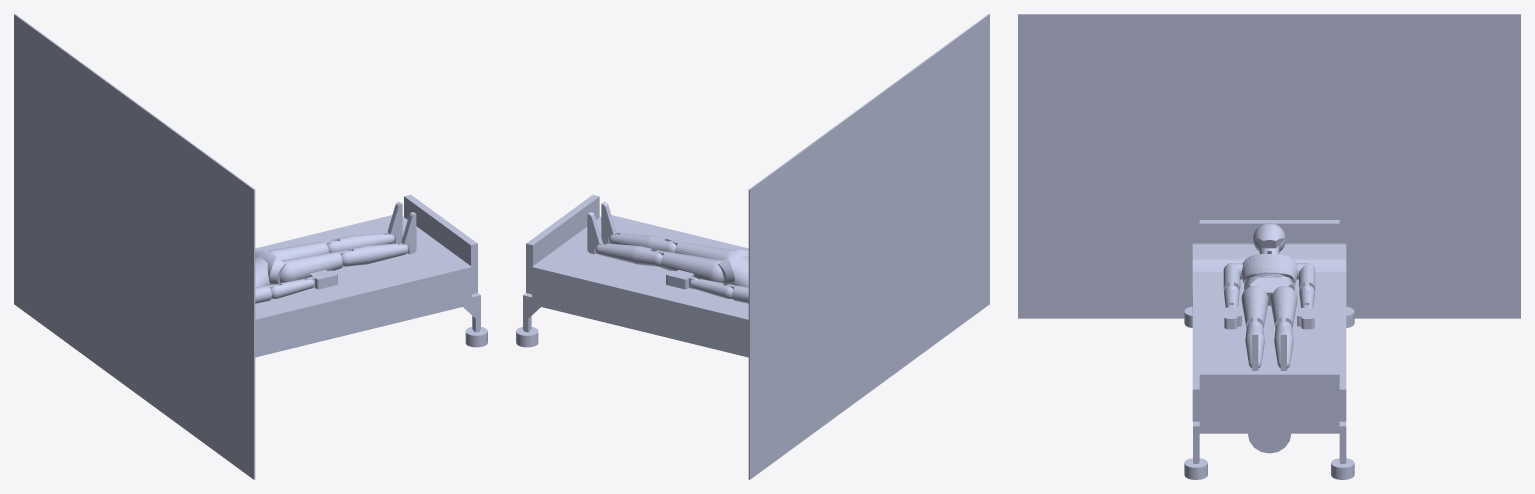
File: bed_and_body_v3_rounded.dae
3 views of the same model, side by side, from view 1: azimuth 30°, elevation 25°; view 2: azimuth 150°, elevation 25°; view 3: azimuth 270°, elevation 25° (orthographic). The views are drawn at different scales.
Parts seen in each view (by area): view 1: wall_link, leg_rest_lower_link, bed_frame_link, leg_rest_upper_link, head_rest_link, quad_right_link, calf_right_link, calf_left_link, quad_left_link, forearm_right_link, lower_body_link; view 2: wall_link, leg_rest_lower_link, bed_frame_link, leg_rest_upper_link, head_rest_link, quad_left_link, calf_left_link, calf_right_link, quad_right_link, forearm_left_link, lower_body_link; view 3: wall_link, bed_frame_link, leg_rest_lower_link, head_rest_link, leg_rest_upper_link, base_link, upper_body_link, quad_left_link, quad_right_link, head_link, lower_body_link, calf_left_link (+1 smaller).
Part boxes in pixels (box(x1,y1,x2,y2)): wall_link: box(14, 14, 255, 479); leg_rest_lower_link: box(303, 215, 471, 320); bed_frame_link: box(255, 194, 480, 357); leg_rest_upper_link: box(255, 237, 376, 332); head_rest_link: box(255, 300, 286, 350); quad_right_link: box(280, 250, 348, 282); calf_right_link: box(341, 243, 408, 266); calf_left_link: box(327, 233, 394, 252); quad_left_link: box(268, 240, 335, 260); forearm_right_link: box(271, 278, 314, 298); lower_body_link: box(255, 249, 285, 284); wall_link: box(748, 14, 989, 479); leg_rest_lower_link: box(532, 215, 700, 320); bed_frame_link: box(523, 195, 748, 357); leg_rest_upper_link: box(627, 237, 748, 332); head_rest_link: box(717, 300, 748, 350); quad_left_link: box(654, 250, 723, 282); calf_left_link: box(595, 243, 662, 266); calf_right_link: box(609, 233, 676, 252); quad_right_link: box(668, 240, 735, 260); forearm_left_link: box(689, 278, 732, 298); lower_body_link: box(718, 249, 748, 284); wall_link: box(1018, 14, 1520, 318); bed_frame_link: box(1193, 220, 1346, 462); leg_rest_lower_link: box(1192, 340, 1346, 421); head_rest_link: box(1192, 243, 1346, 314); leg_rest_upper_link: box(1192, 314, 1346, 340); base_link: box(1184, 306, 1354, 479); upper_body_link: box(1241, 254, 1297, 284); quad_left_link: box(1270, 286, 1297, 328); quad_right_link: box(1241, 286, 1268, 327); head_link: box(1253, 223, 1285, 251); lower_body_link: box(1245, 276, 1293, 305); calf_left_link: box(1274, 321, 1293, 368).
Size of the model in its own units: 2.29 by 3 by 2.
